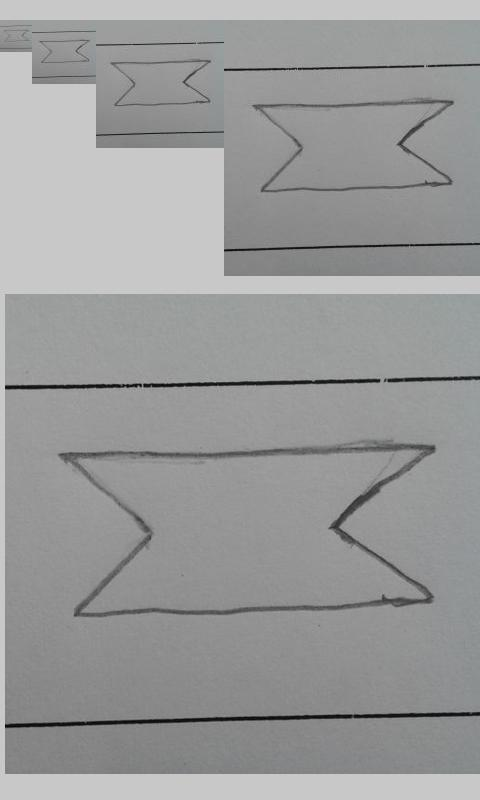edit_text: (63, 442, 434, 622), (253, 100, 454, 194), (110, 60, 211, 106), (39, 39, 89, 64), (4, 29, 29, 42)
